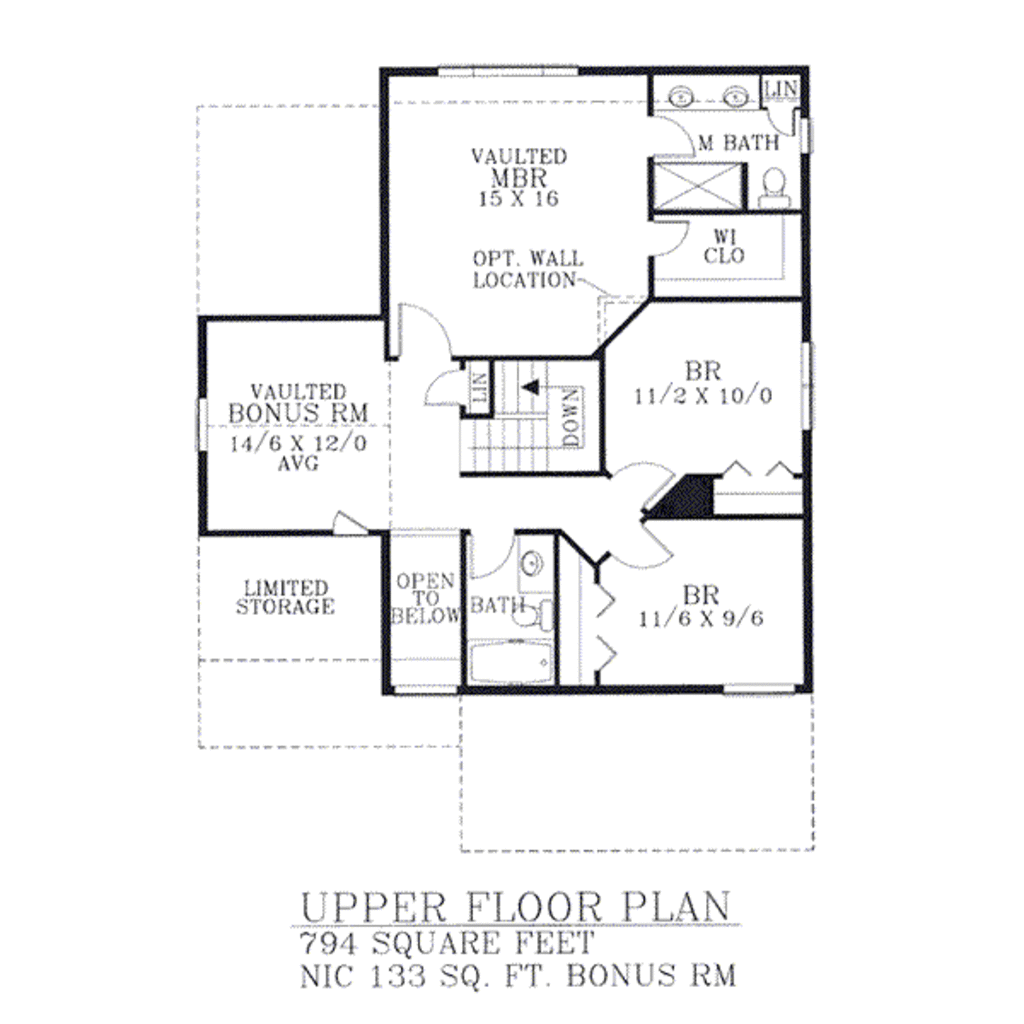door: (591, 511, 681, 578), (391, 297, 464, 363), (597, 449, 673, 503), (464, 524, 518, 590), (651, 106, 706, 157), (416, 365, 470, 406), (649, 211, 691, 257), (767, 101, 800, 139)
large_sink: (502, 593, 556, 633), (756, 160, 794, 211)
small_sink: (654, 74, 762, 106), (518, 532, 554, 587)
stairs: (456, 352, 611, 484)
tub: (467, 636, 556, 695)
window: (422, 60, 581, 78), (725, 676, 798, 703), (187, 398, 216, 465)
